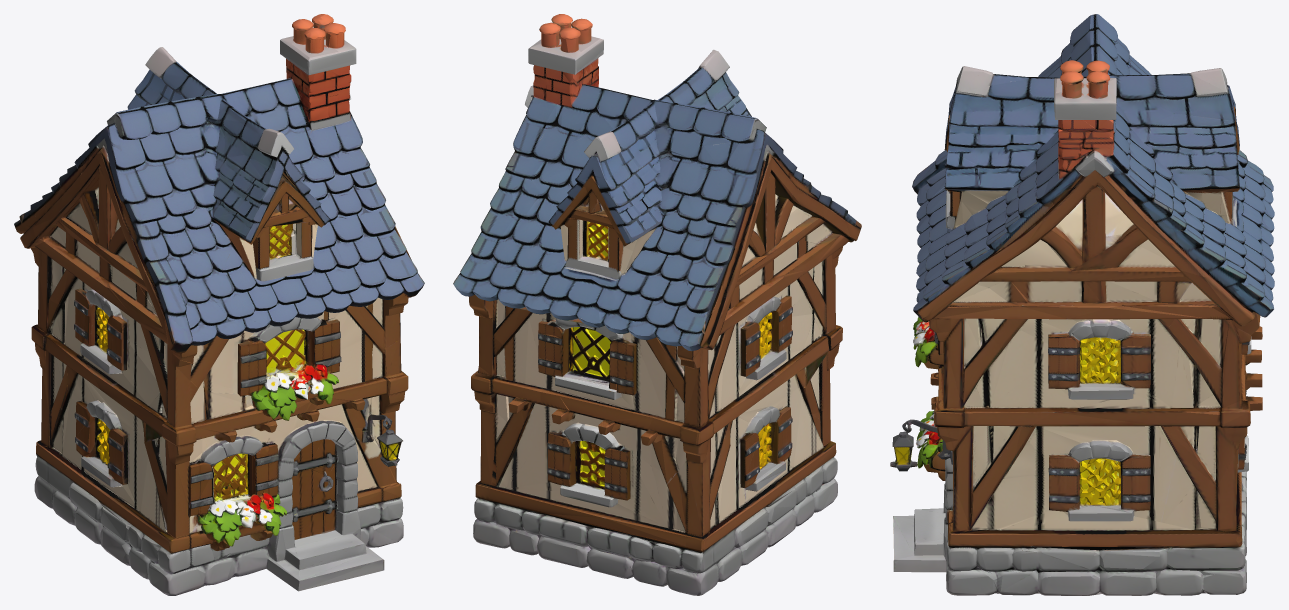
Rendered from townhouse.glb.
3 renders of one model, left to right at view 1: azimuth 30°, elevation 25°; view 2: azimuth 150°, elevation 25°; view 3: azimuth 270°, elevation 25°, orthographic. The views are drawn at different scales.
Size of the model in its own units: 1.05 by 1.9 by 1.28.
Materials: 1 (1 with a texture image).
